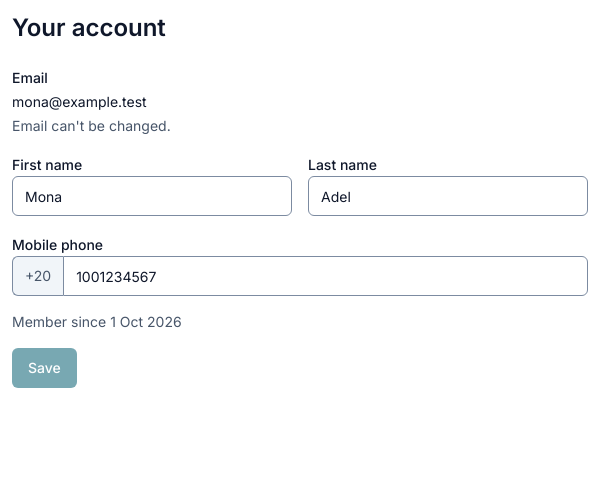
Test: profile (spec 01 SF-15) › a server failure: form-level message with the reference
Type "h" into the field labelled "First name" at (152, 196), box top-left (12, 176), bottom-right (292, 216)
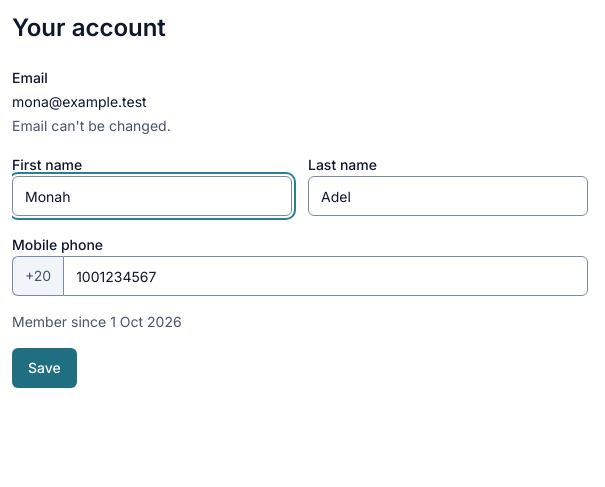
Click the button "Save" at (44, 368), box top-left (12, 348), bottom-right (77, 388)
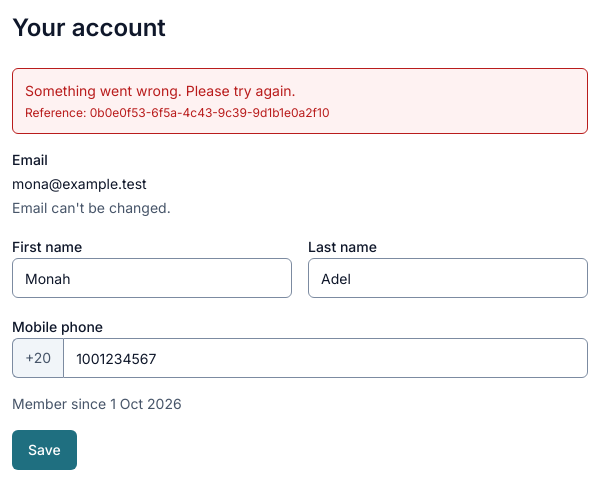
Now the message is shown, box top-left (12, 68), bottom-right (588, 134)
